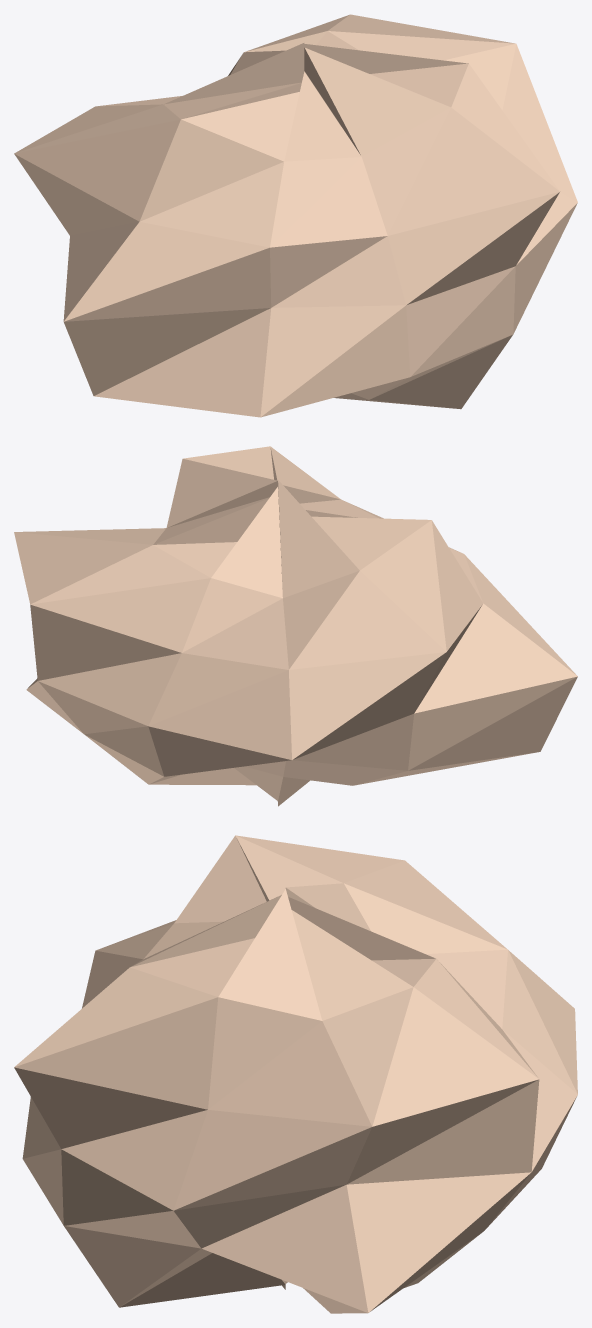
Rendered from rock_017.obj.
The picture shows the model from 3 angles, top to bottom: view 1: azimuth 30°, elevation 25°; view 2: azimuth 150°, elevation 25°; view 3: azimuth 270°, elevation 25°; orthographic projection. The views are drawn at different scales.
Bounding box in the file's own units: 0.7995 × 0.5111 × 0.6482.
